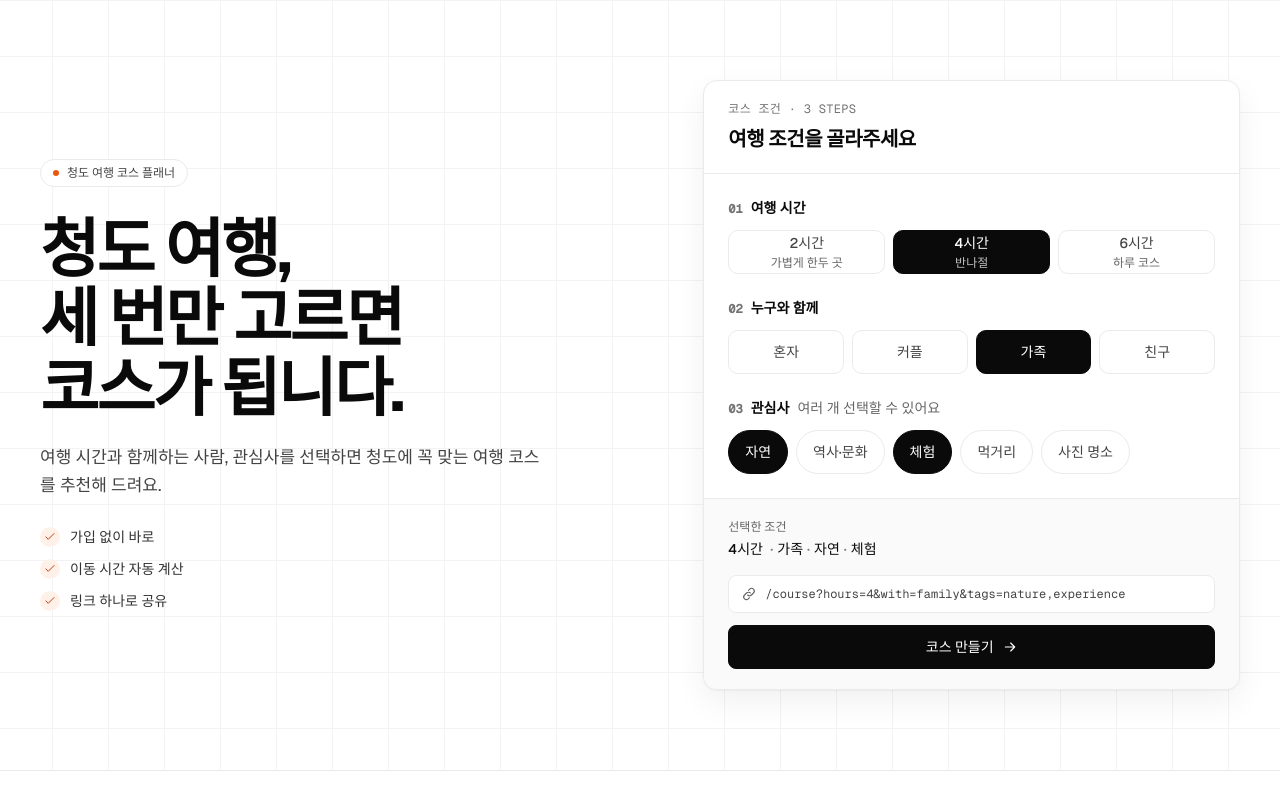
Test case: HomePage › updates the shared URL preview as interests change
The image size is (1280, 800).
Step 1. Click the button "자연" → [758, 452], box [728,430,788,474]
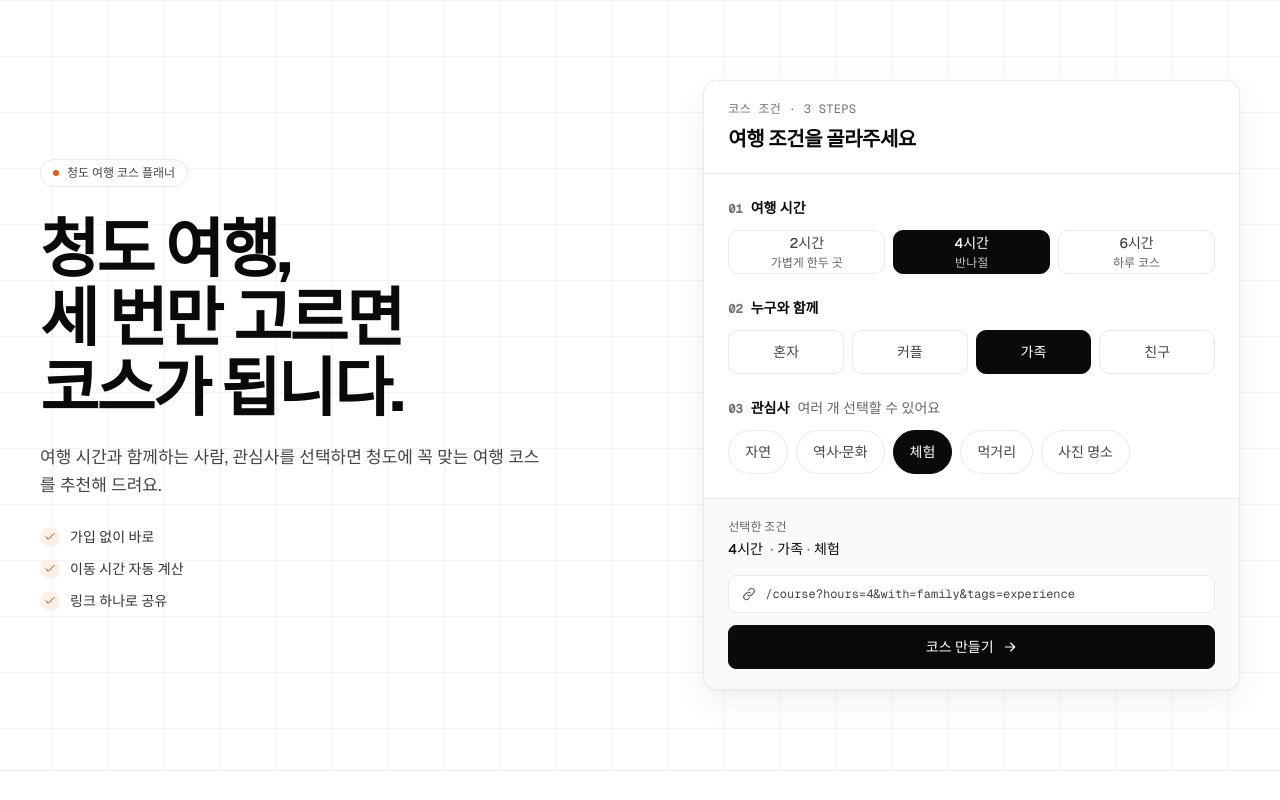
Result: the text "/course?hours=4&with=family&tags=experience" is shown at [765,586,1075,602]
